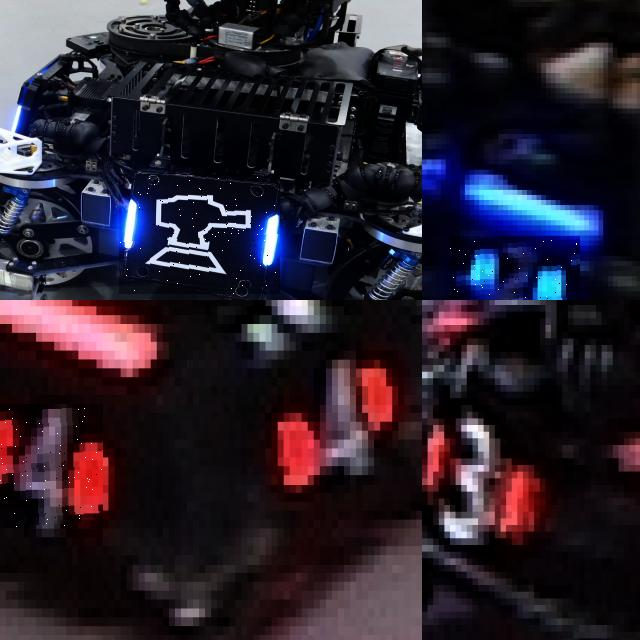B2: (450, 235, 579, 300)
Bs: (119, 174, 280, 294)
R3: (422, 395, 534, 561)
R4: (272, 342, 392, 493), (0, 403, 102, 528)
